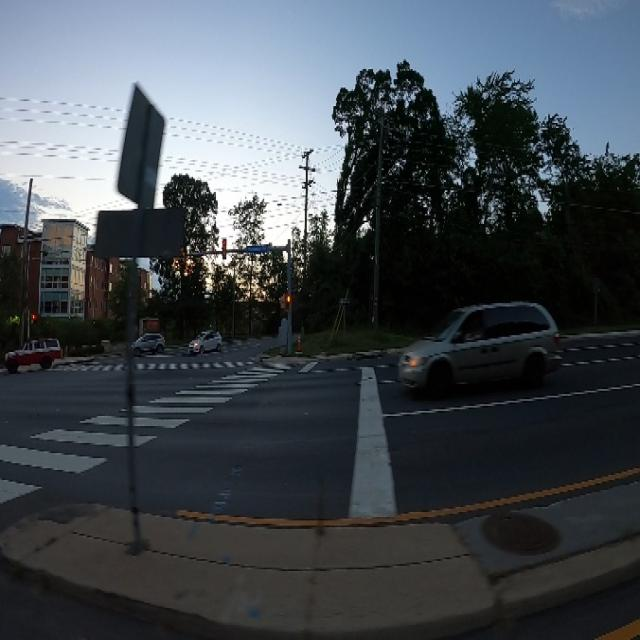Cars: (407, 320, 566, 380)
